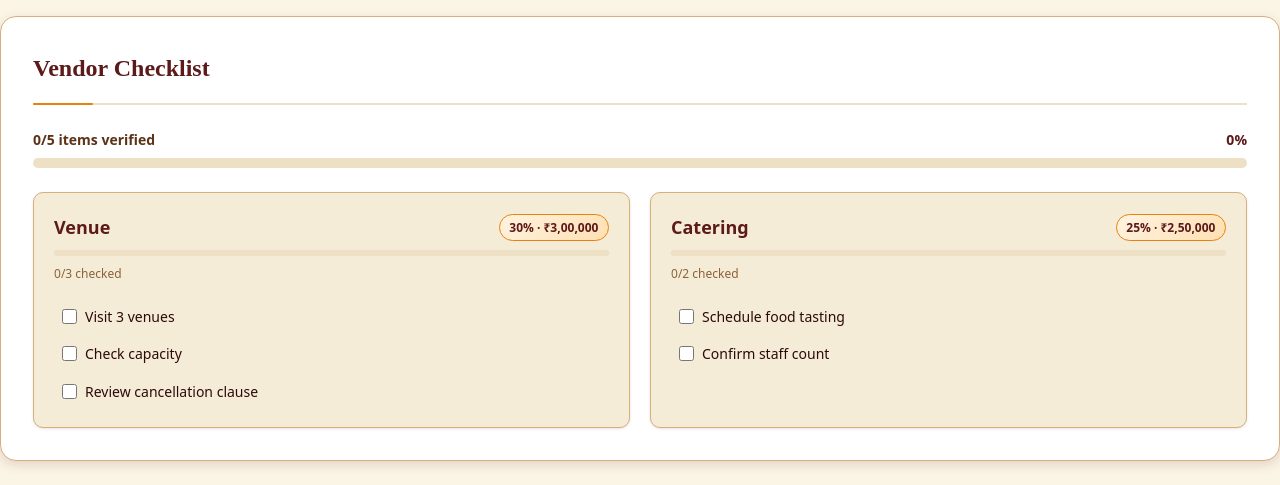
VendorChecklist › checking an item updates progress
Click the checkbox labelled "Visit 3 venues" at (70, 317), box [62,309,77,324]
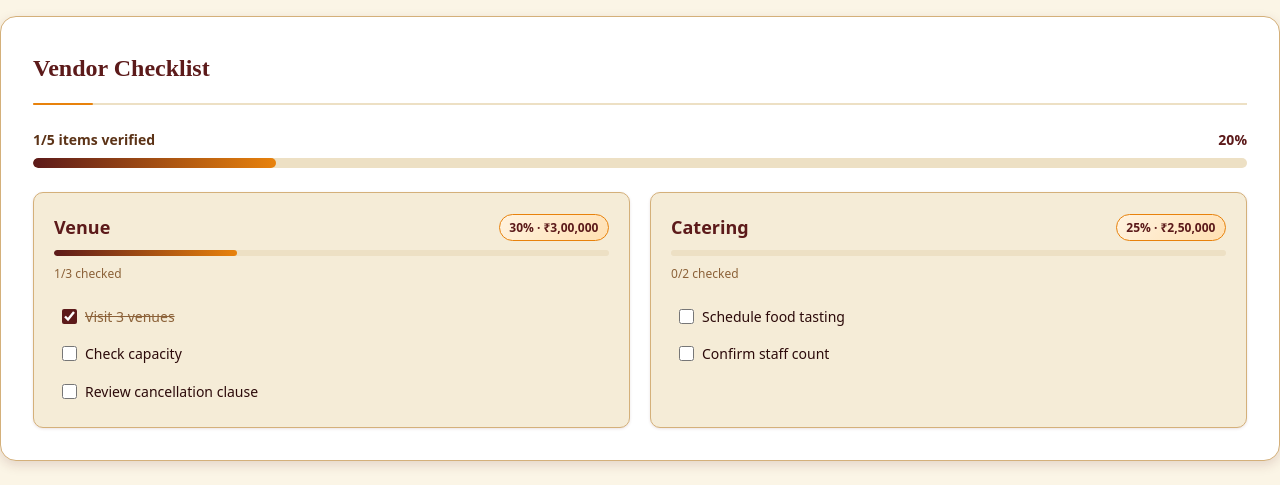
Now the text "1/5 items verified" is shown, box [33,129,155,152]
